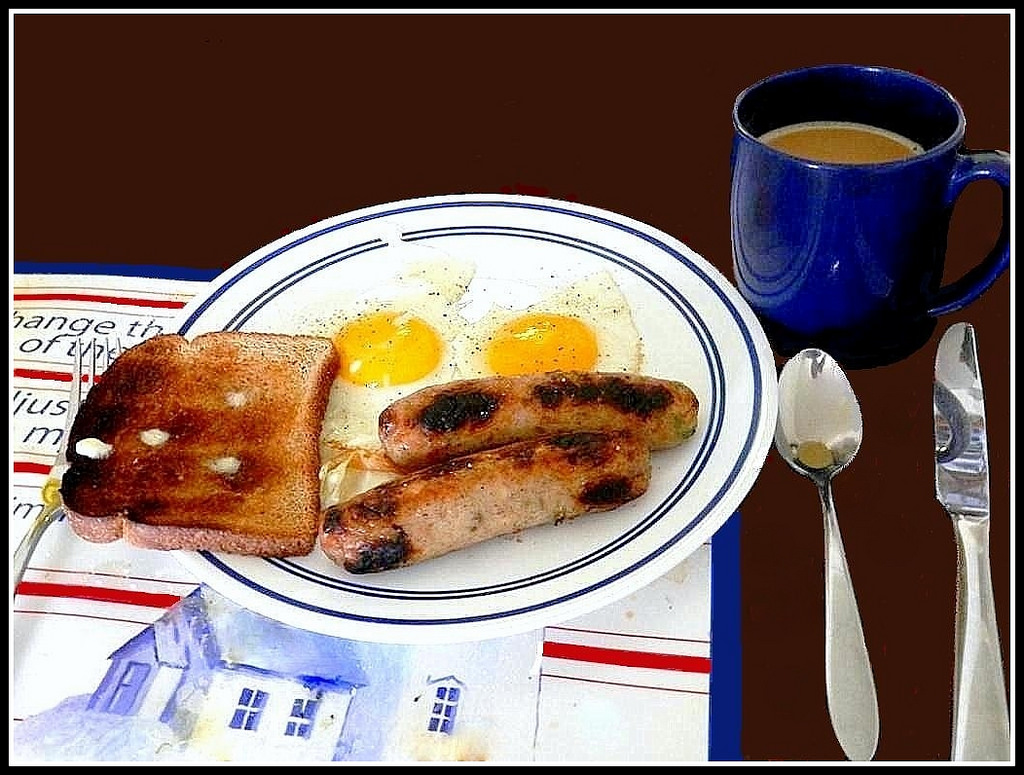fried egg: (298, 278, 480, 457), (465, 267, 671, 380)
slice of bread: (61, 333, 332, 559)
